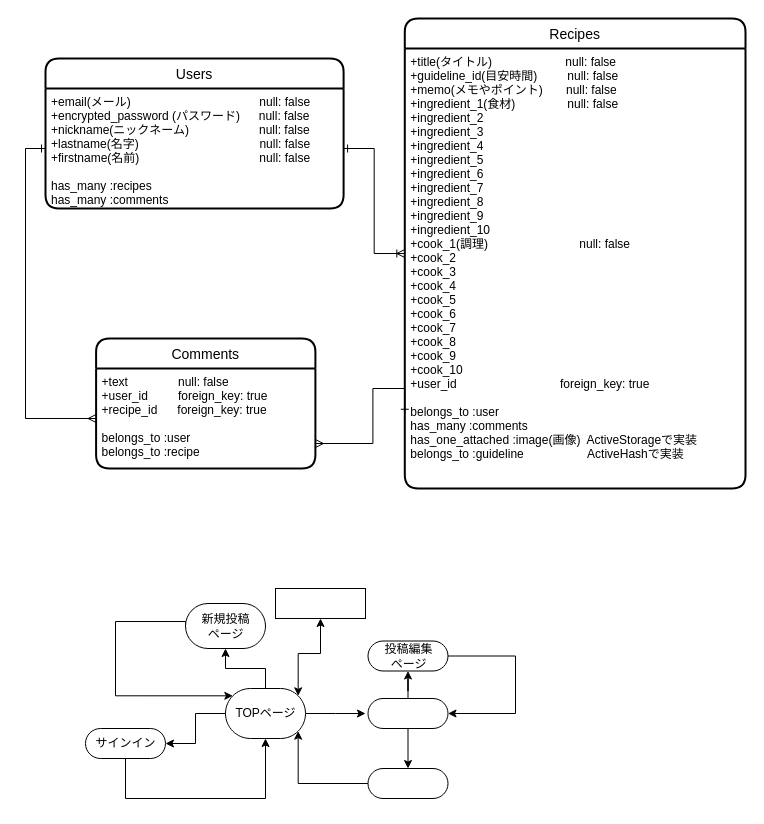
The diagram is 764 pixels wide and 824 high, and some of its shapes have lost their labels. Each missing label, with the centre of its shape:
"お役立ち情報" belongs at pixel 320 603.
"投稿削除 ページ" belongs at pixel 407 783.
"投稿詳細 ページ" belongs at pixel 407 713.
